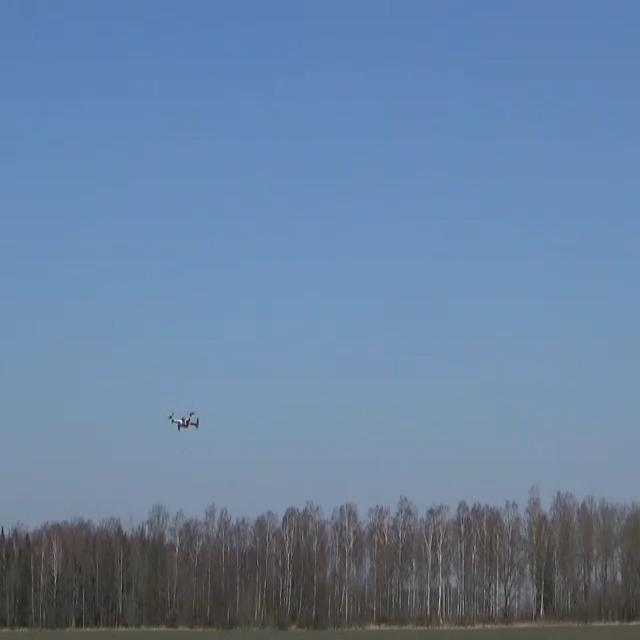drone: (167, 410, 199, 431)
